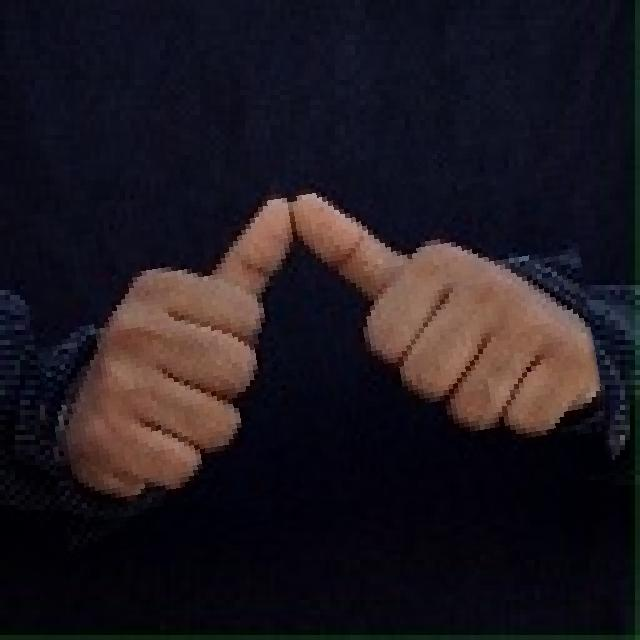A: (26, 152, 603, 539)
